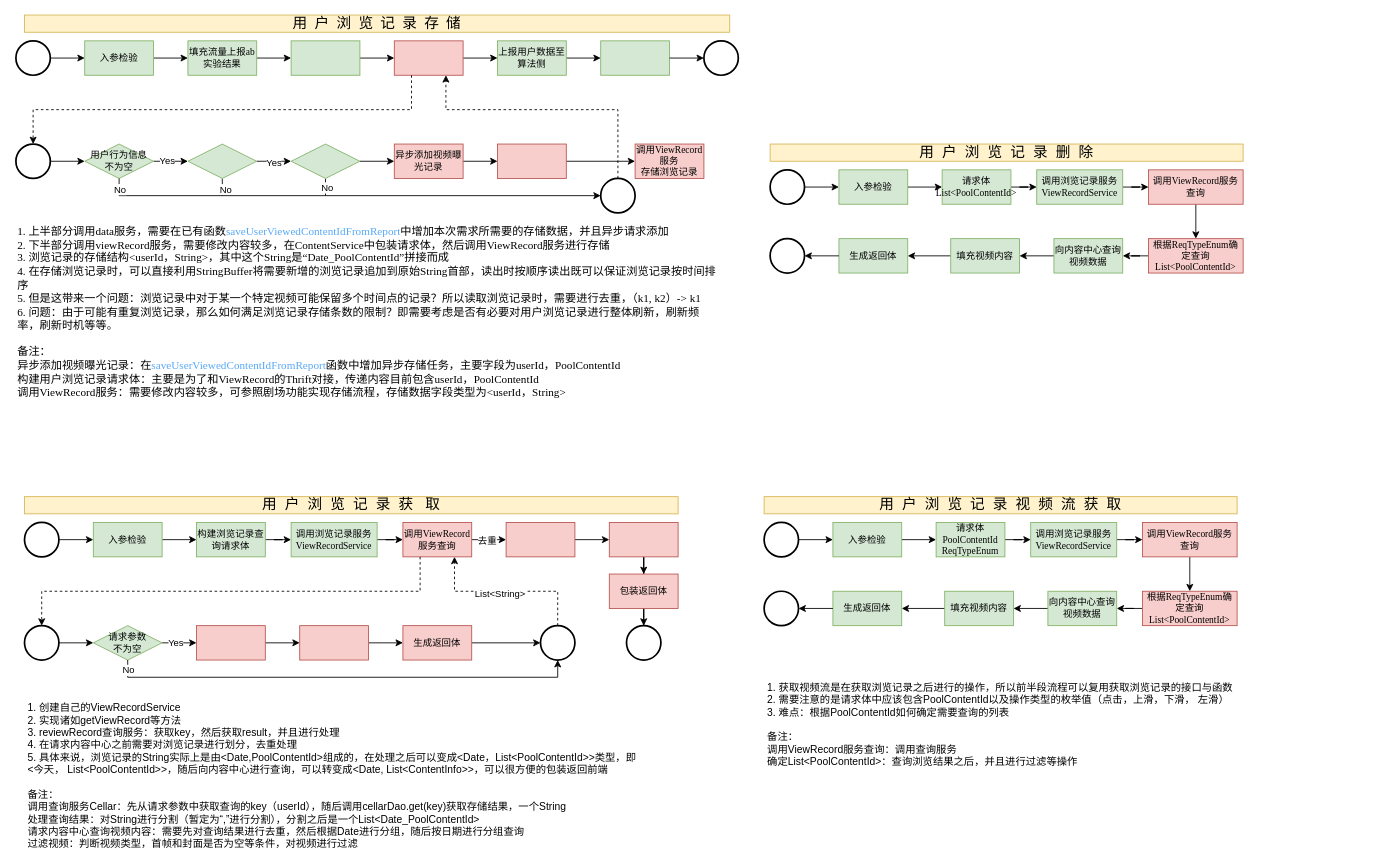
The diagram is 1396 pixels wide and 865 high, and some of its shapes have lost their labels. The shapes that lost their labels are listed below. From the top down, each one's centre as x and y in pixels, then its label:
(x=325, y=57): 填充流量上报ab实验
(x=428, y=57): 上报用户浏览记录
(x=635, y=57): 用户行为数据log2hive
(x=222, y=160): 娱乐视频
(x=325, y=160): 上报播放行为
(x=531, y=160): 构建用户浏览记录 存储请求体
(x=540, y=539): 请求内容中心查询视频内容
(x=643, y=539): 过滤视频
(x=230, y=642): 调用查询服务 Cellar
(x=334, y=642): 处理查询结果
